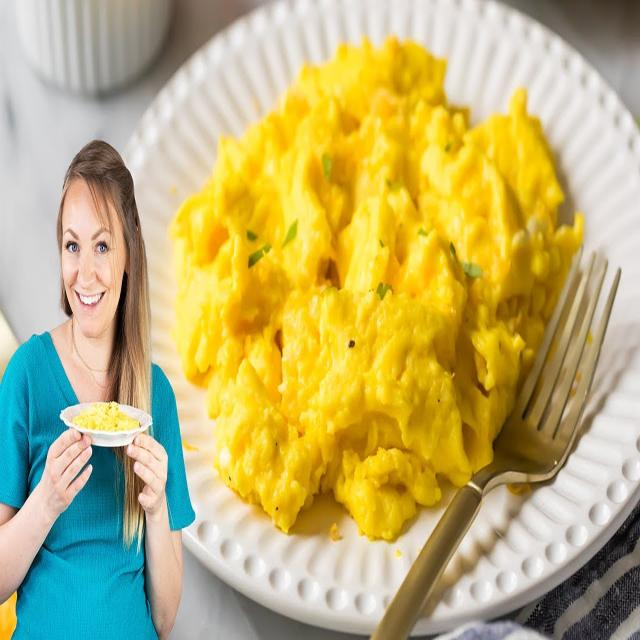eggs: (184, 34, 564, 514)
